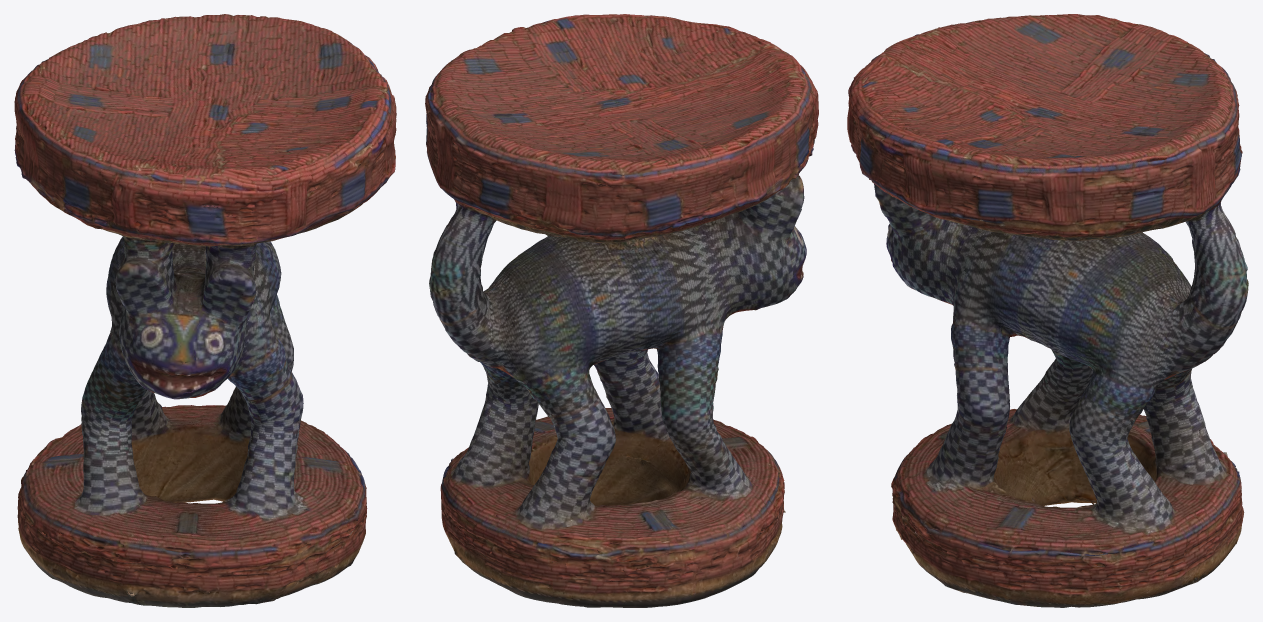
Rendered from preview.glb.
3 renders of one model, left to right at view 1: azimuth 30°, elevation 25°; view 2: azimuth 150°, elevation 25°; view 3: azimuth 270°, elevation 25°, orthographic. The views are drawn at different scales.
Visible parts, largest first — view 1: Object_2; view 2: Object_2; view 3: Object_2.
Boxes of the visible parts, left/top/right/bottom form: Object_2: left=14, top=14, right=396, bottom=607; Object_2: left=425, top=14, right=818, bottom=607; Object_2: left=847, top=14, right=1248, bottom=607.
Size of the model in its own units: 0.3791 by 0.5083 by 0.4005.
Materials: 1 (1 with a texture image).
